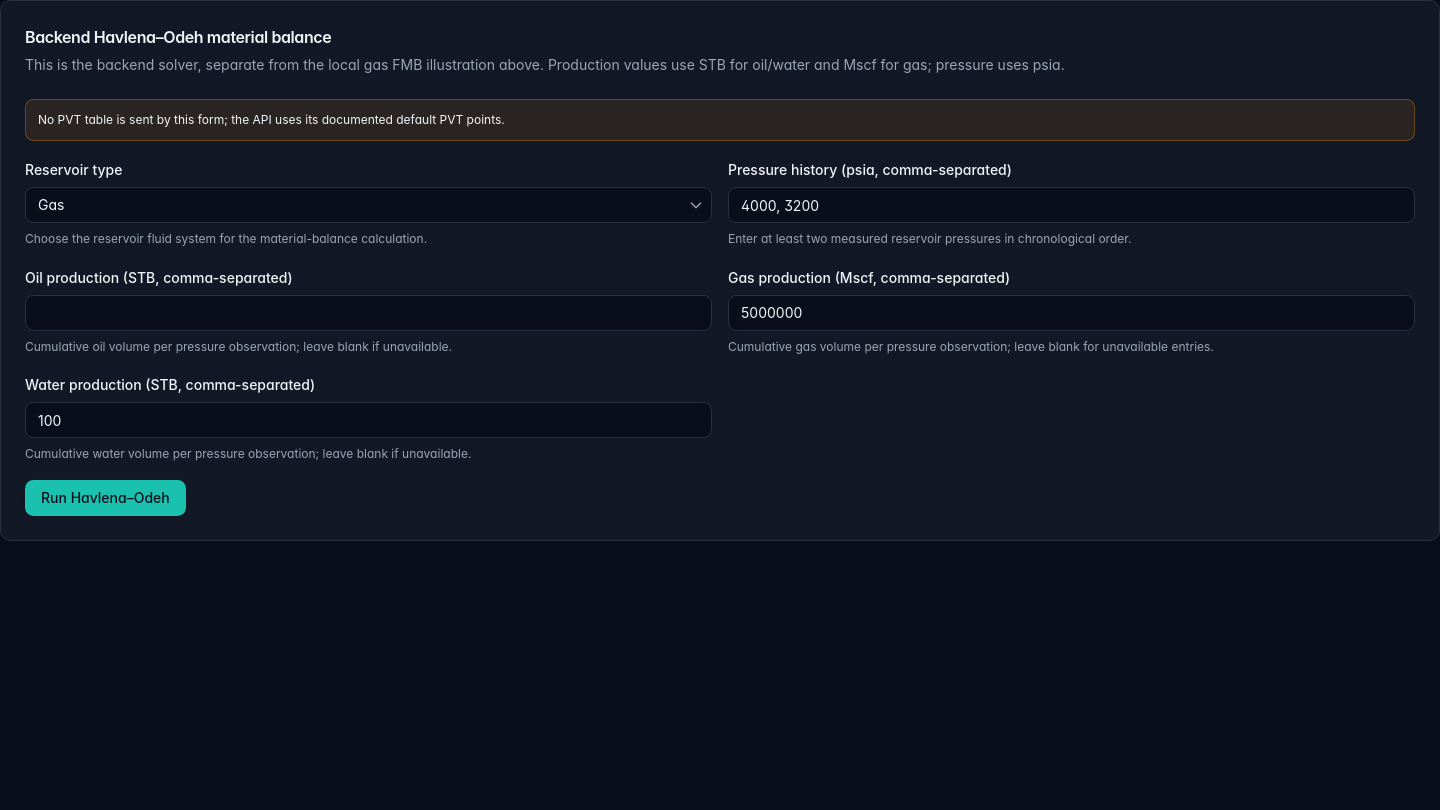
Test: MaterialBalanceEnginePanel › sends the entered pressure and production histories to the backend
Click the button "Run Havlena–Odeh": x=105, y=498 x1=25 y1=480 x2=186 y2=516
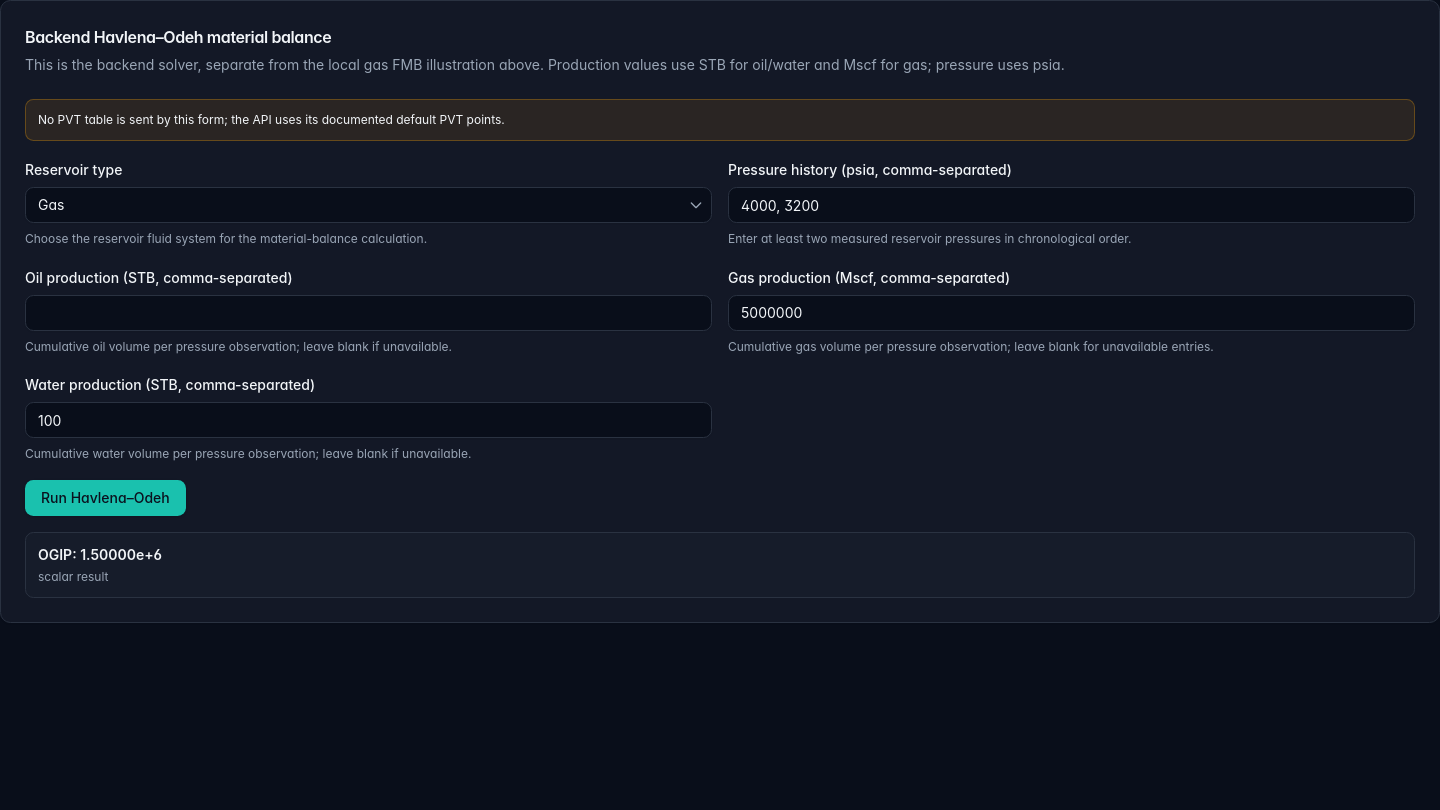
Check: the text "OGIP: 1.50000e+6" is shown, box x1=38 y1=546 x2=162 y2=562
